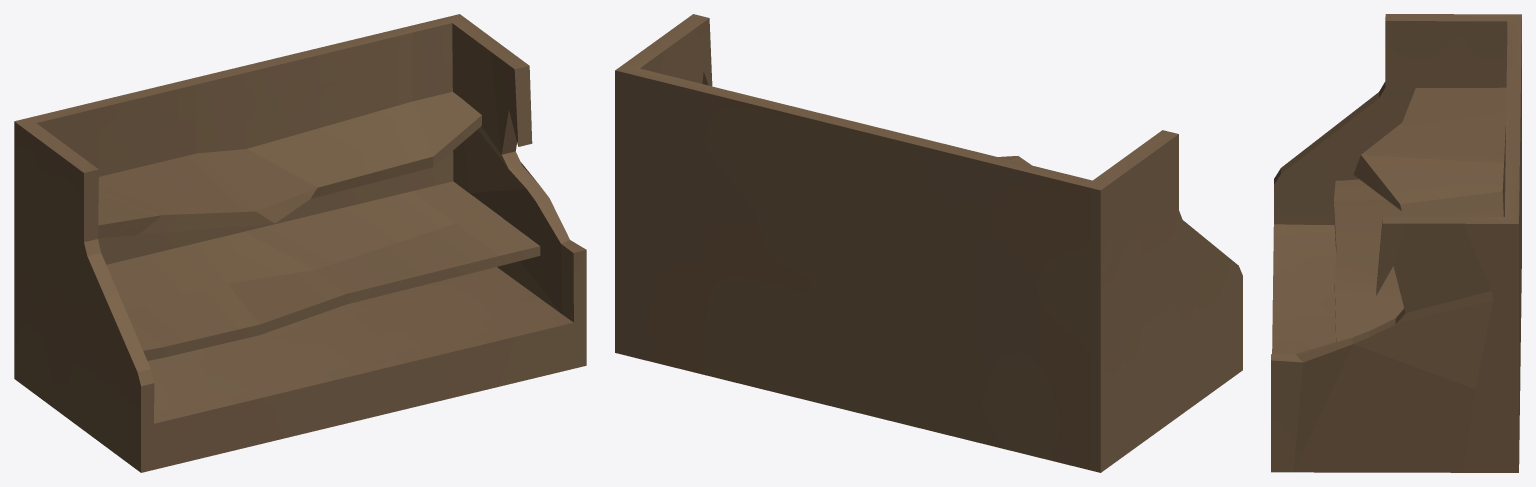
Rendered from leaflet_holder_1.glb.
3 views of the same model, side by side, from view 1: azimuth 30°, elevation 25°; view 2: azimuth 150°, elevation 25°; view 3: azimuth 270°, elevation 25° (orthographic). The views are drawn at different scales.
Parts seen in each view (by area): view 1: leaflet_holder_1; view 2: leaflet_holder_1; view 3: leaflet_holder_1.
Part boxes in pixels (bbox=[...]): leaflet_holder_1: bbox=[14, 14, 586, 472]; leaflet_holder_1: bbox=[615, 14, 1242, 472]; leaflet_holder_1: bbox=[1271, 14, 1521, 472].
Bounding box in the file's own units: 0.5926 × 0.3244 × 0.2961.
1 material, 1 textured.
